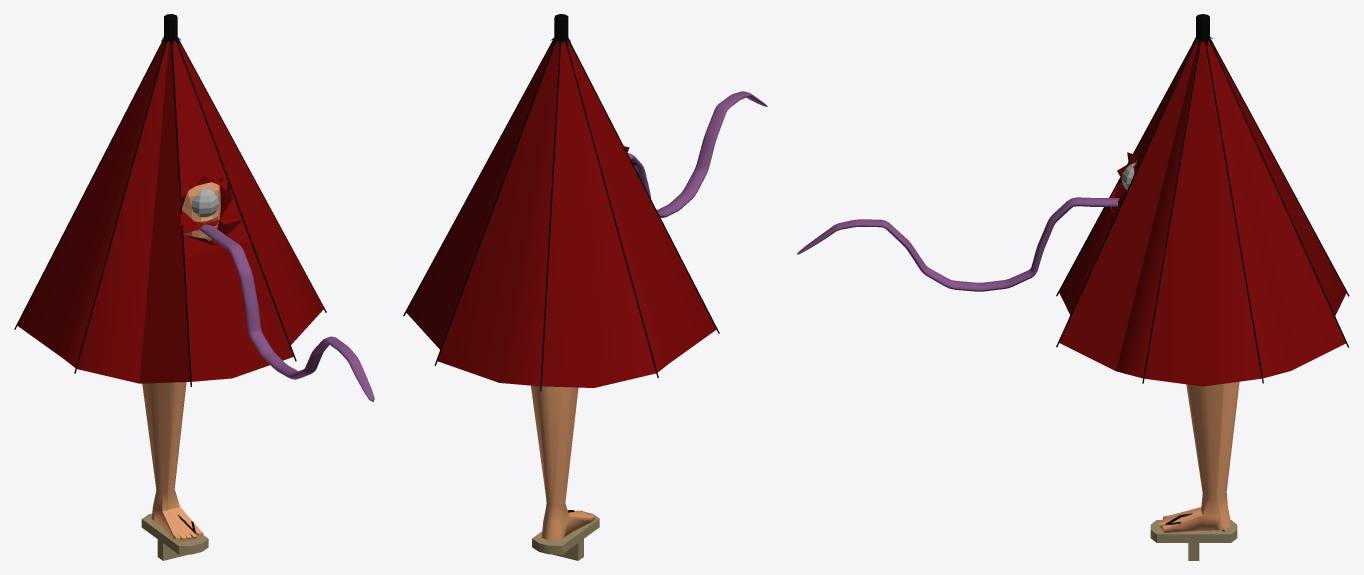
The model's file is kasa.fbx.
3 renders of one model, left to right at view 1: azimuth 30°, elevation 25°; view 2: azimuth 150°, elevation 25°; view 3: azimuth 270°, elevation 25°, orthographic.
Visible parts, largest first — view 1: shape, Head, tongue, geta, born6, born8, born7, eye1, born1; view 2: shape, Head, tongue, geta, born2, born1, born3, born8, born4; view 3: shape, Head, tongue, geta, born4, born5.
Part boxes in pixels (box(x1,y1,x2,y2)): shape: box(17, 39, 323, 383); Head: box(142, 182, 220, 541); tongue: box(200, 225, 374, 401); geta: box(141, 513, 208, 560); born6: box(176, 40, 296, 361); born8: box(74, 40, 166, 373); born7: box(171, 41, 191, 386); eye1: box(191, 188, 218, 217); born1: box(14, 38, 163, 329); shape: box(406, 40, 716, 387); Head: box(531, 385, 594, 540); tongue: box(627, 91, 767, 217); geta: box(532, 511, 599, 560); born2: box(540, 41, 560, 391); born1: box(565, 41, 658, 377); born3: box(434, 40, 555, 365); born8: box(568, 39, 719, 333); born4: box(403, 39, 554, 316); shape: box(1059, 40, 1346, 386); Head: box(1135, 160, 1239, 533); tongue: box(797, 197, 1119, 291); geta: box(1150, 520, 1237, 560); born4: box(1205, 41, 1263, 383); born5: box(1142, 41, 1200, 383).
Size of the model in its own units: 18.8 by 38.25 by 35.53.
